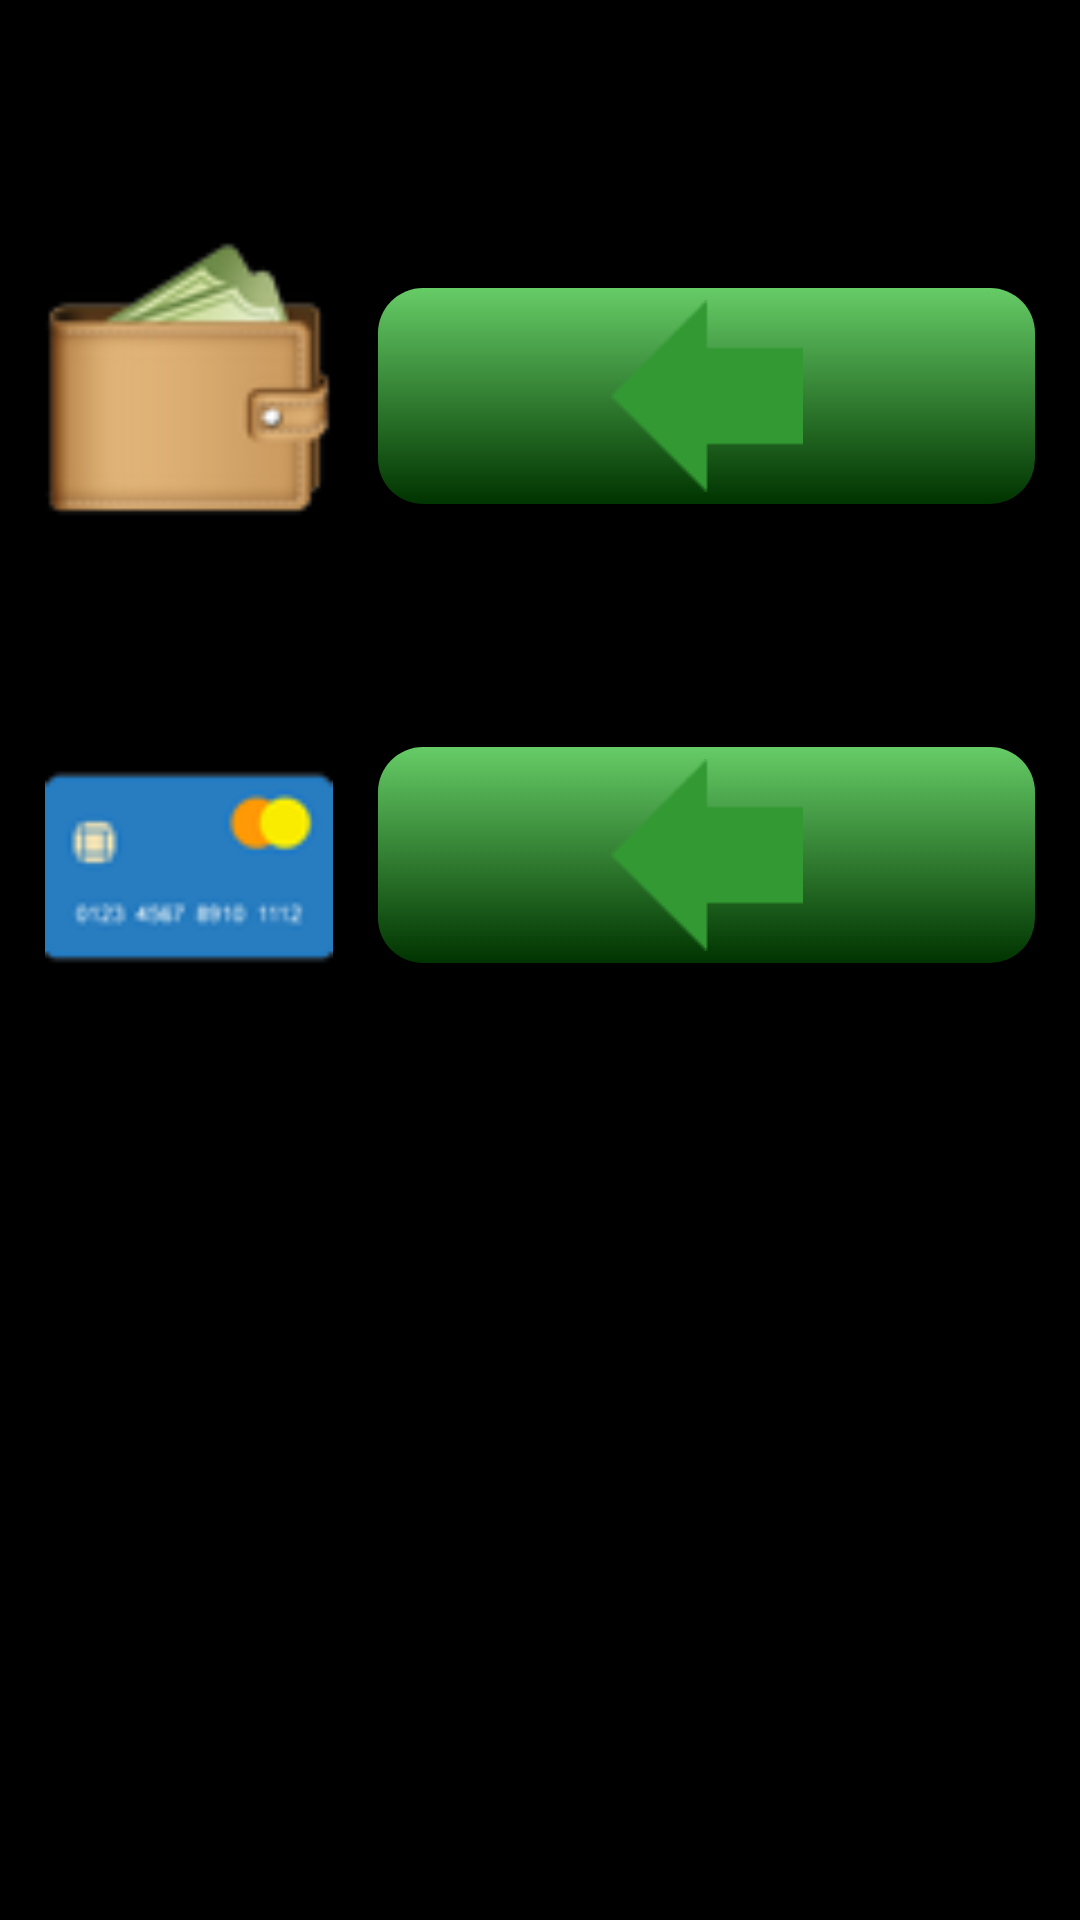

Screen size 1080w x 1920h. Icon name, then its box in pixels as (x1=x1, y1=y1, x2=x2, y2=y2):
cash: (x1=48, y1=243, x2=330, y2=512)
